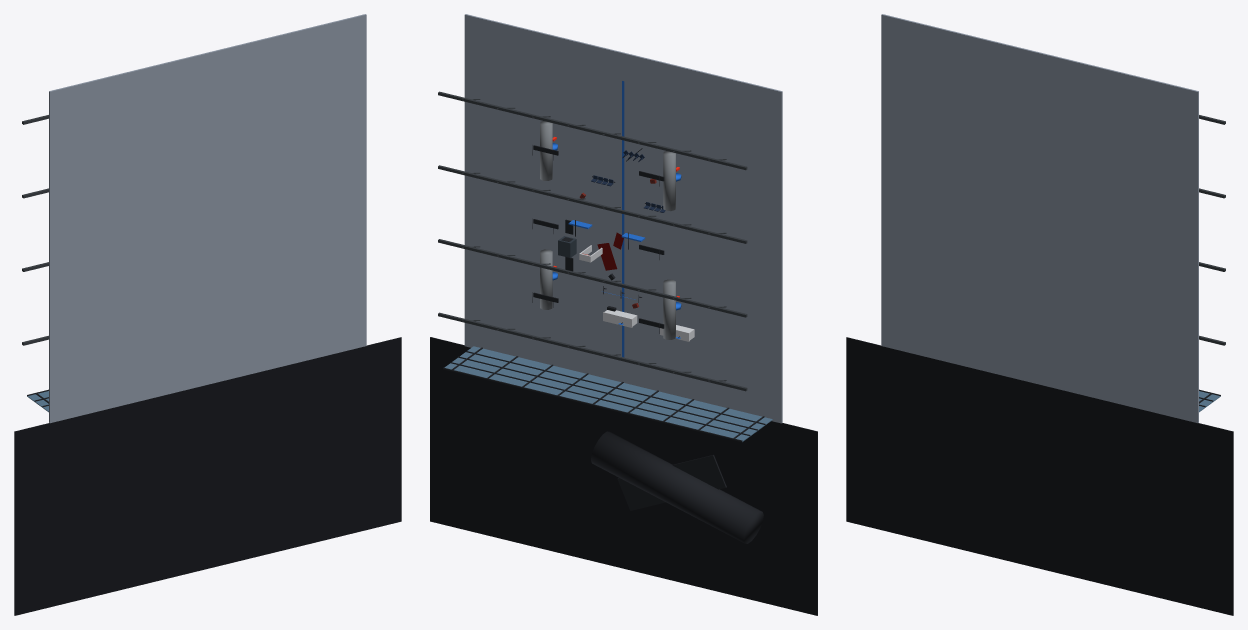
Rendered from airport_terminal.obj.
3 views of the same model, side by side, from view 1: azimuth 30°, elevation 25°; view 2: azimuth 150°, elevation 25°; view 3: azimuth 330°, elevation 25° (orthographic).
Parts seen in each view (by area): view 1: AirportTerminalMesh; view 2: AirportTerminalMesh; view 3: AirportTerminalMesh.
Boxes of the visible parts, x1,y1,x2,y2 form: AirportTerminalMesh: (14, 14, 401, 615); AirportTerminalMesh: (430, 14, 817, 615); AirportTerminalMesh: (846, 14, 1233, 615).
Bounding box in the file's own units: 44 × 56 × 6.45.
